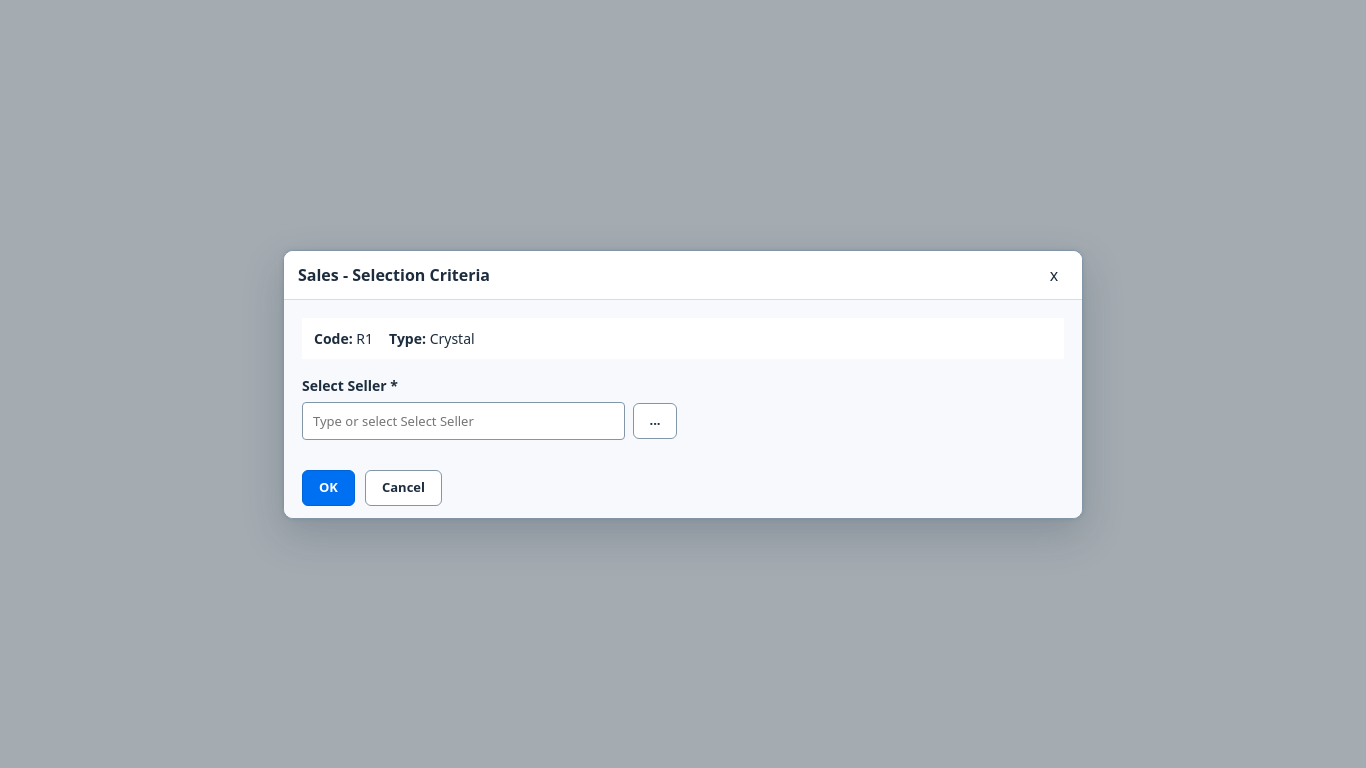
Test case: asks for required lookup values before running a company report
Click the button "OK" at [328, 488], box x1=302 y1=470 x2=355 y2=506
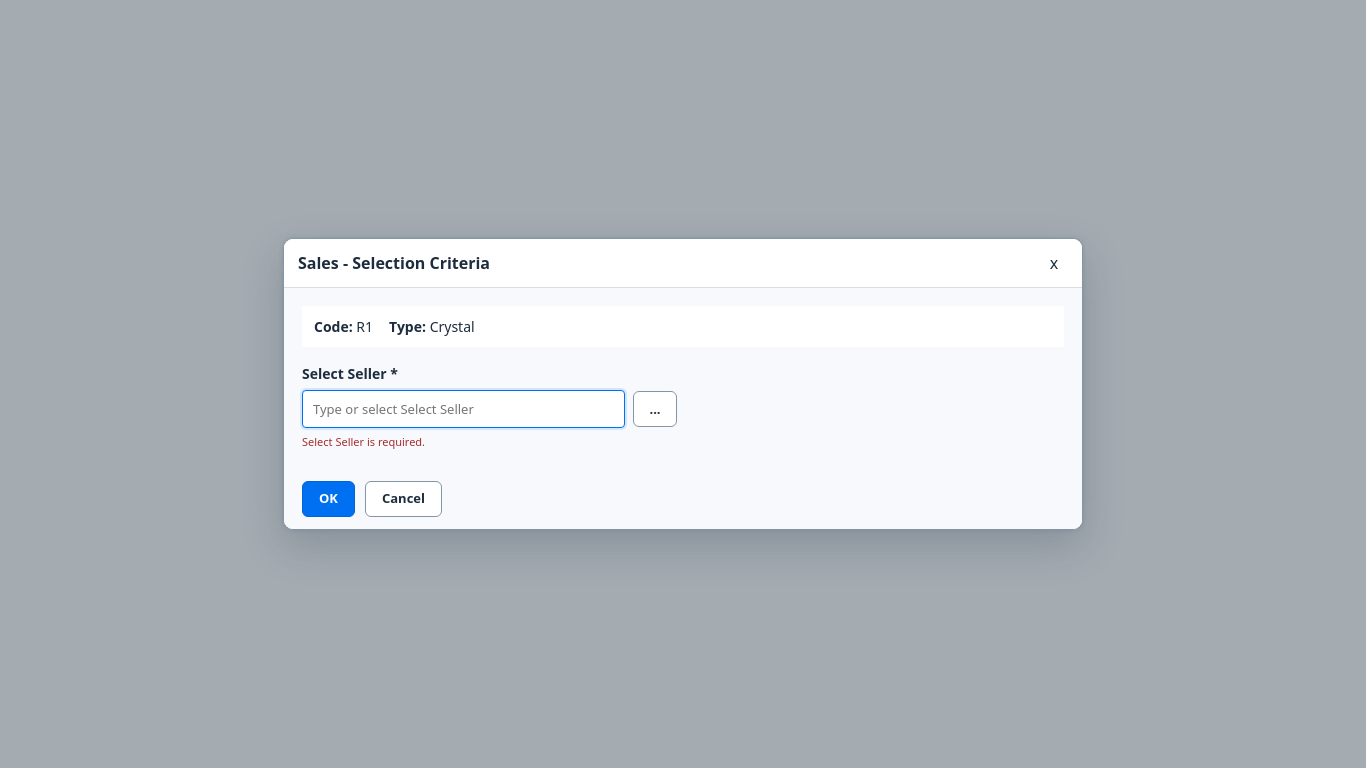
Expected: the text "Select Seller is required." is shown, x1=302 y1=434 x2=425 y2=449
